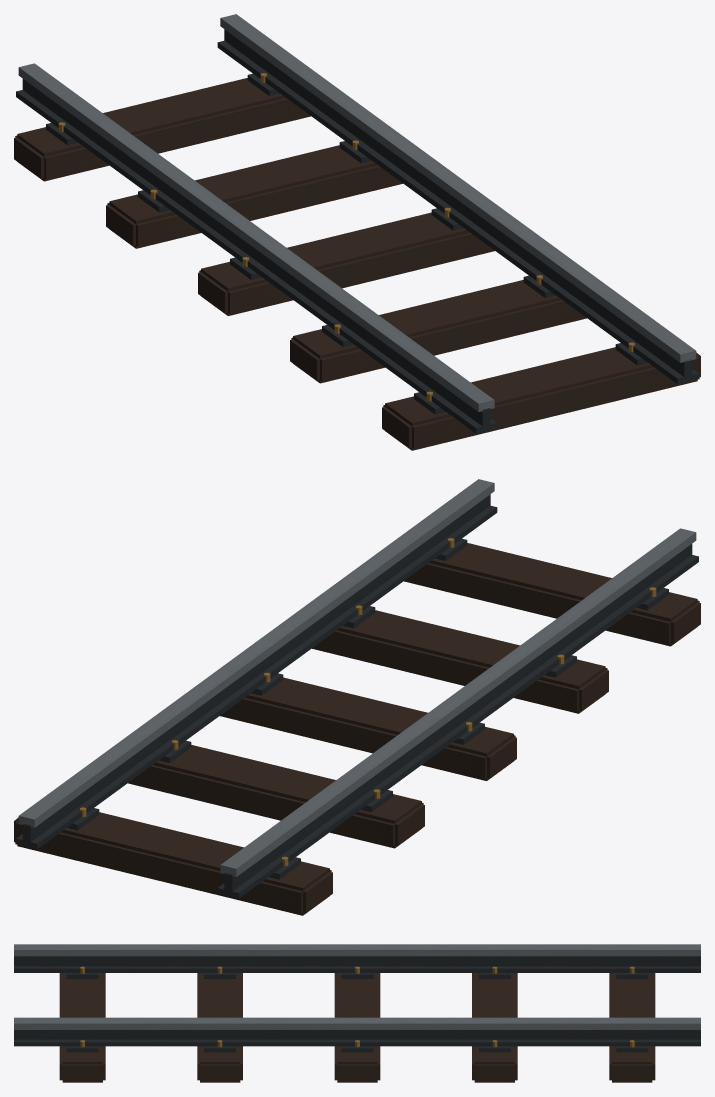
File: mine_track_segment.glb
3 renders of one model, top to bottom at view 1: azimuth 30°, elevation 25°; view 2: azimuth 150°, elevation 25°; view 3: azimuth 270°, elevation 25°, orthographic. The views are drawn at different scales.
Visible parts, largest first — view 1: mine_track_segment; view 2: mine_track_segment; view 3: mine_track_segment.
Boxes of the visible parts, x1,y1,x2,y2 form: mine_track_segment: [14, 14, 700, 450]; mine_track_segment: [14, 479, 700, 915]; mine_track_segment: [14, 944, 700, 1082].
Size of the model in its own units: 1.1 by 0.225 by 3.
Materials: 1 (1 with a texture image).
